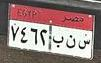2: (39, 28, 48, 48)
4: (20, 26, 28, 45)
6: (30, 26, 38, 45)
7: (10, 24, 19, 42)
baa: (52, 34, 64, 49)
noon: (65, 33, 76, 51)
seen: (77, 39, 91, 51)
